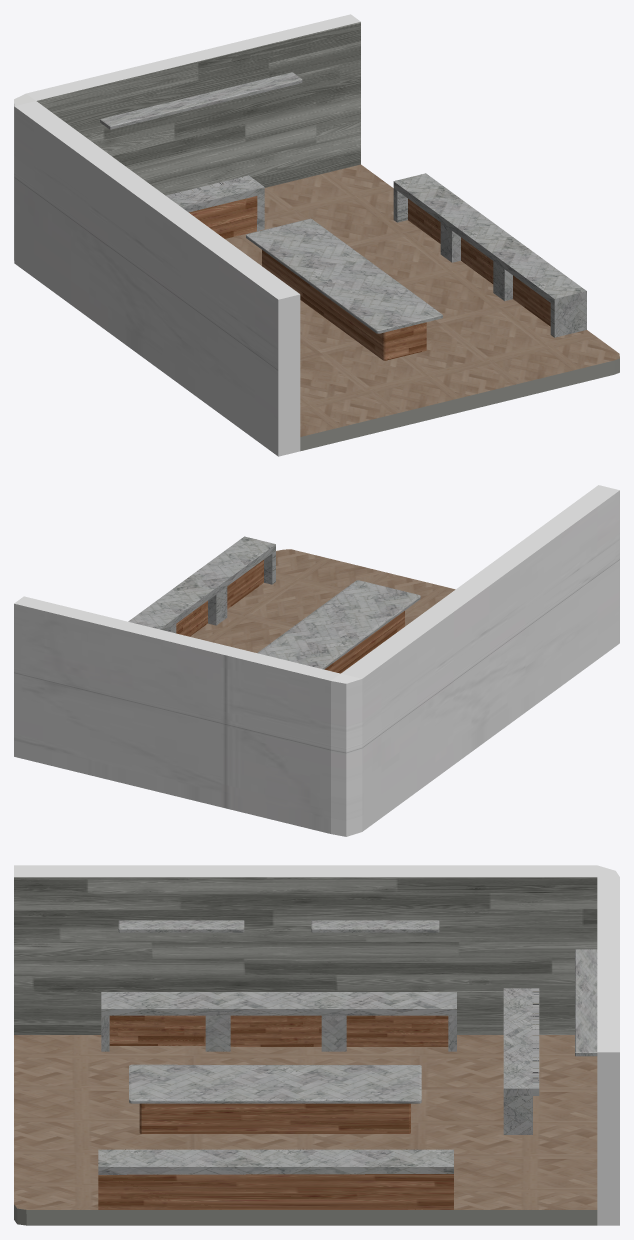
The model's file is store.glb.
The picture shows the model from 3 angles, top to bottom: view 1: azimuth 30°, elevation 25°; view 2: azimuth 150°, elevation 25°; view 3: azimuth 270°, elevation 25°; orthographic projection. The views are drawn at different scales.
Parts seen in each view (by area): view 1: Cube; view 2: Cube; view 3: Cube.
Part boxes in pixels (bbox=[...]): Cube: bbox=[14, 14, 619, 456]; Cube: bbox=[14, 485, 619, 836]; Cube: bbox=[14, 865, 619, 1225].
Size of the model in its own units: 65.74 by 28.61 by 90.08.
5 materials, 5 textured.
